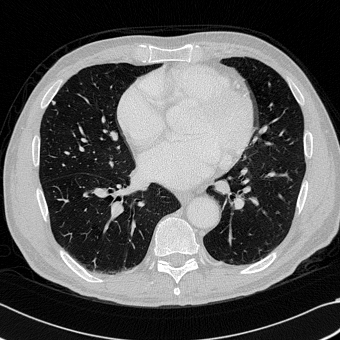nodule: (52, 100, 56, 104)
